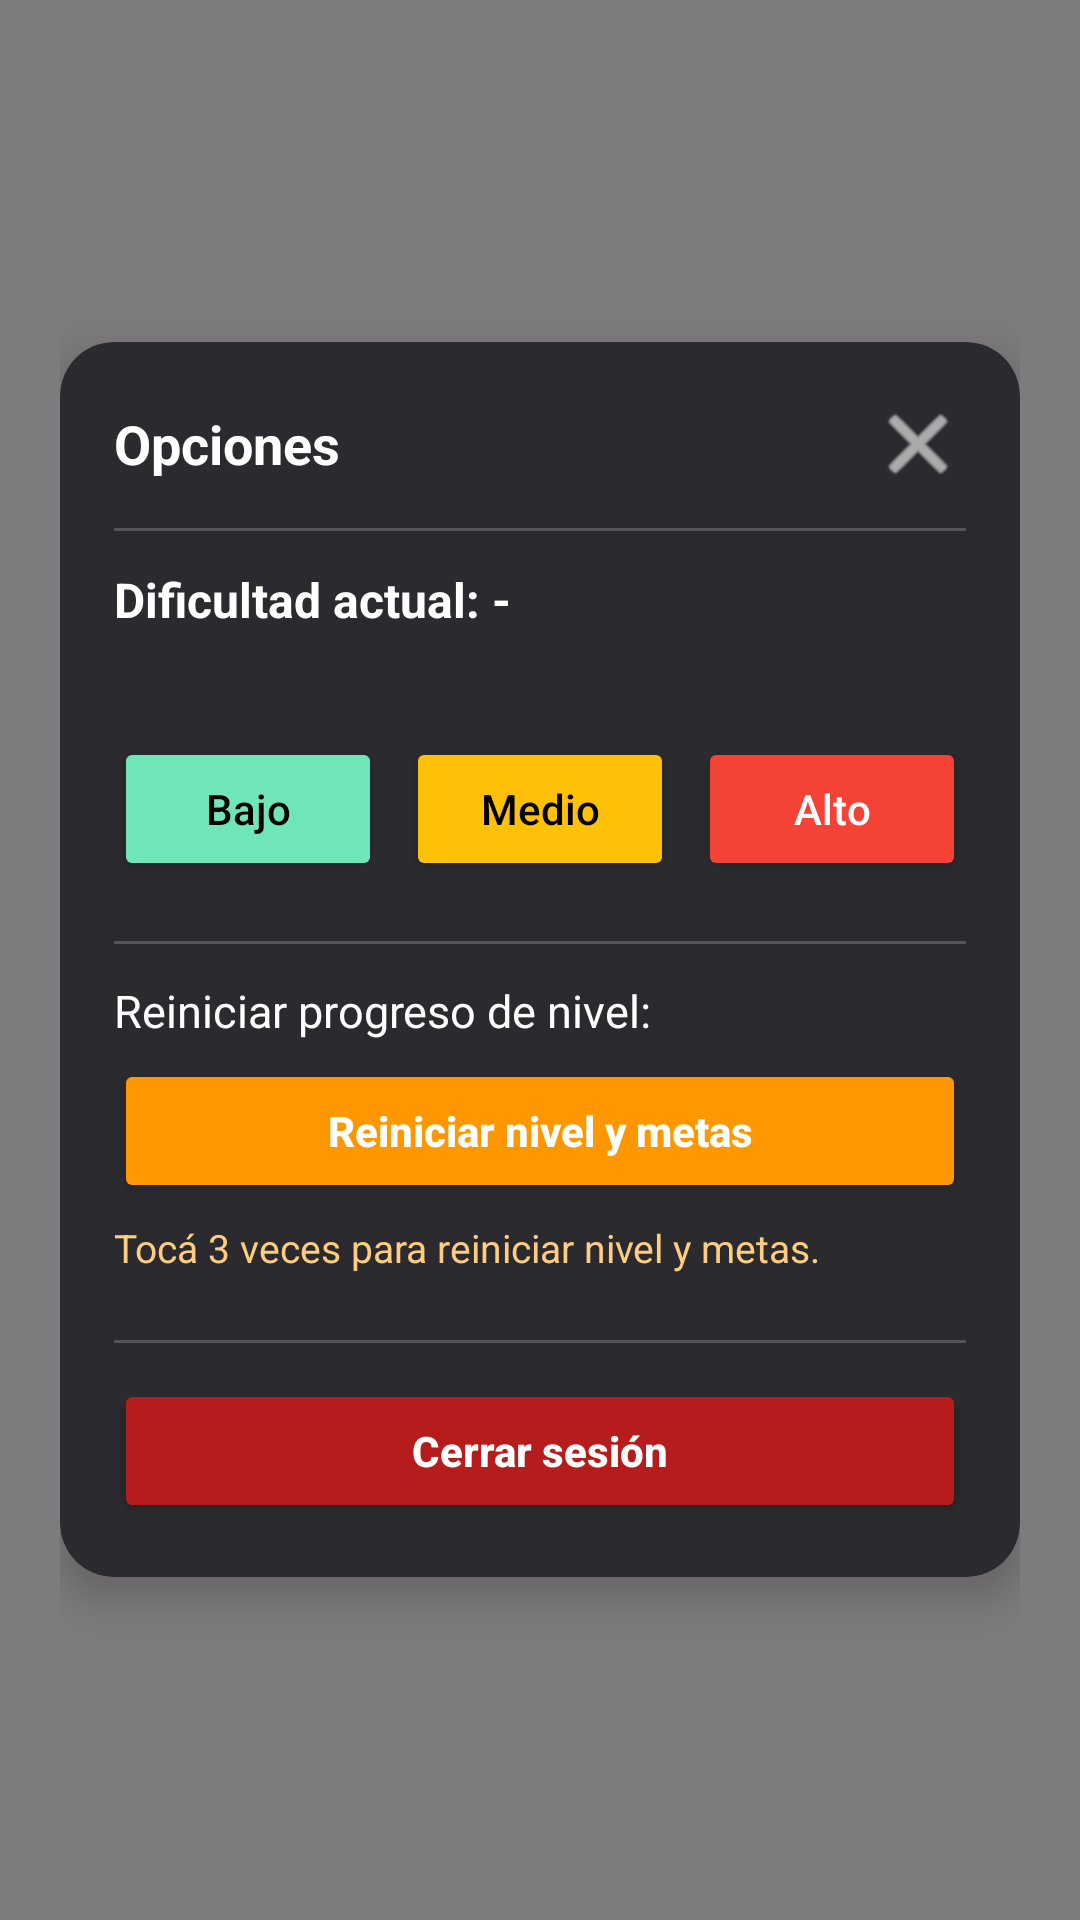

Named icons in this screenshot (1080×1920) and their bounding boxes, (x1, y1, x2, y2):
close clear cancel: (888, 414, 948, 474)
